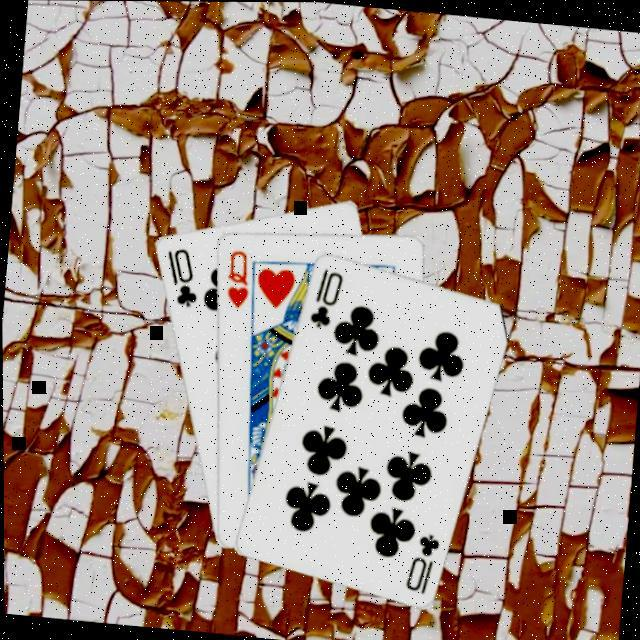10C: (397, 524, 441, 595), (156, 241, 200, 308), (302, 260, 344, 329)
QH: (218, 243, 251, 309)
